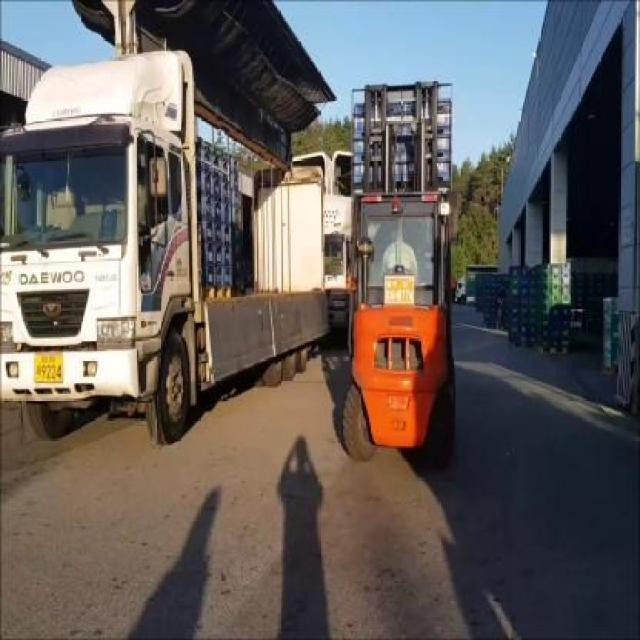forklift: (346, 82, 460, 450)
